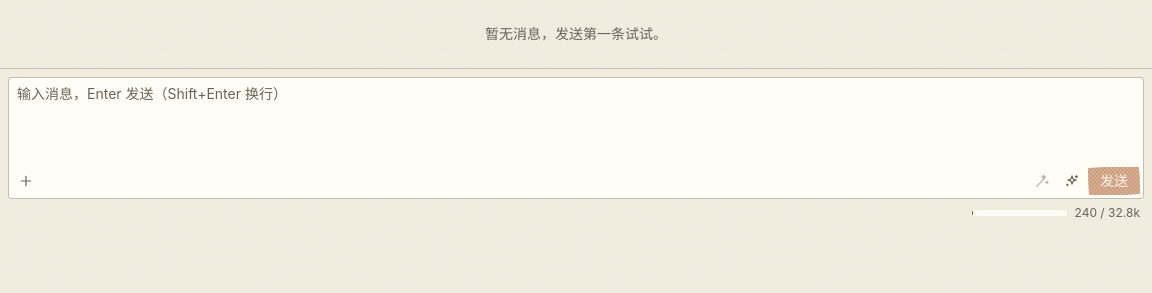
ChatView — stop & failure notices (SPEC 5.8.1-5, 5.8.3) › closes the pill, shows the stopped notice and inserts no late reply (5a)
Expected: the text "暂无消息，发送第一条试试。" is shown, left=485, top=25, right=667, bottom=42
Step 1. Type "帮忙看看" into the text box with placeholder "输入消息，Enter 发送（Shift+Enter 换行）" → (576, 138), box left=8, top=77, right=1144, bottom=199
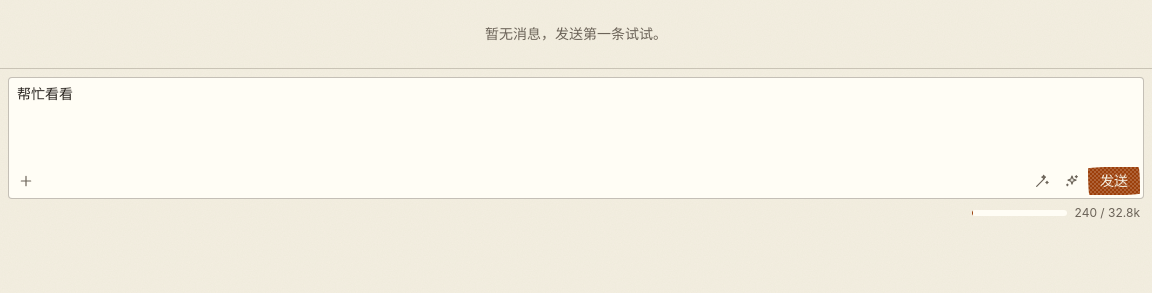
Step 2. Press Enter in the text box with placeholder "输入消息，Enter 发送（Shift+Enter 换行）", box left=8, top=77, right=1144, bottom=199
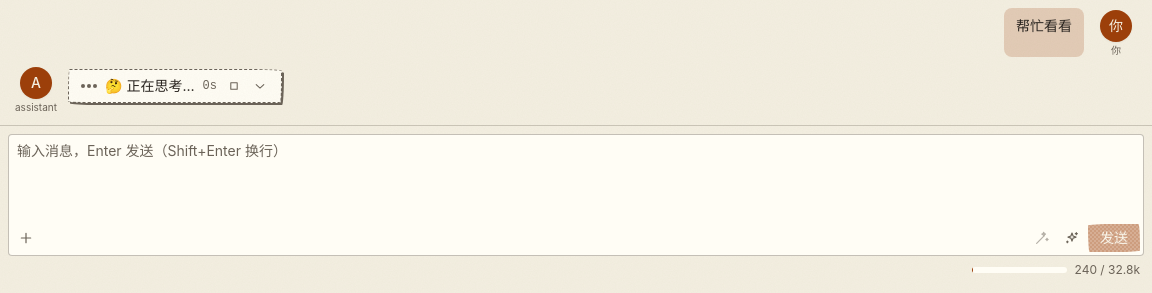
Expected: the element with test id "status-pill" is shown, left=68, top=68, right=282, bottom=102
Step 3. Click the button named "停止" → (234, 86), box left=225, top=76, right=243, bottom=94
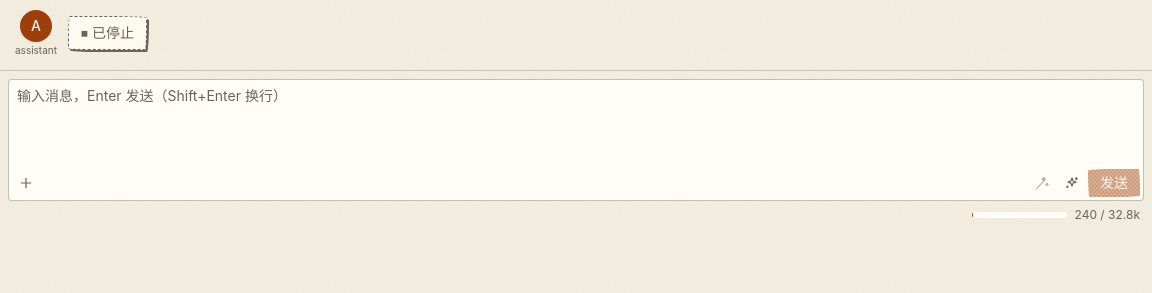
Expected: the element with test id "status-pill" is gone
Expected: the text "⏹ 已停止" is shown, left=81, top=23, right=134, bottom=43
